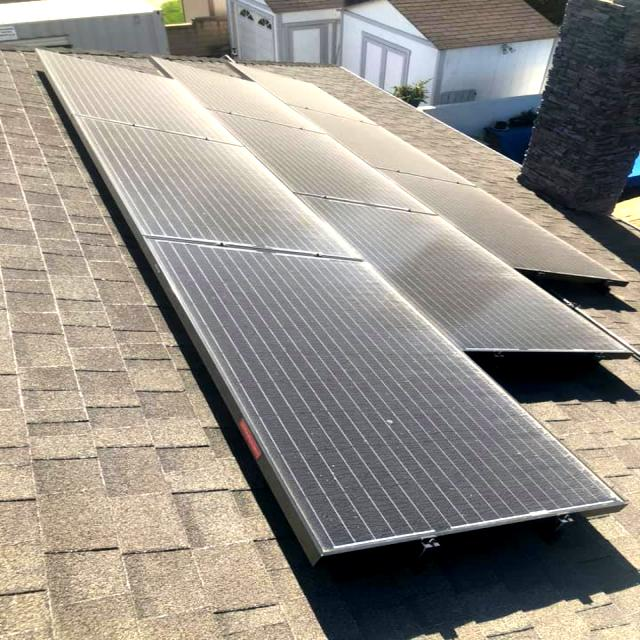dust: (321, 406, 507, 518), (230, 267, 374, 400), (150, 154, 296, 251), (383, 277, 456, 399), (101, 78, 225, 142), (444, 209, 532, 279), (338, 160, 421, 230), (247, 106, 380, 140), (472, 288, 550, 344)
